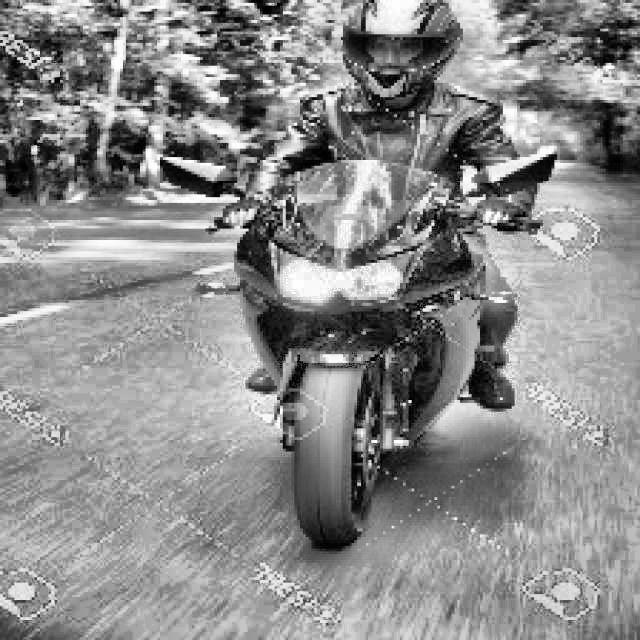motorcycle: (155, 142, 580, 542)
